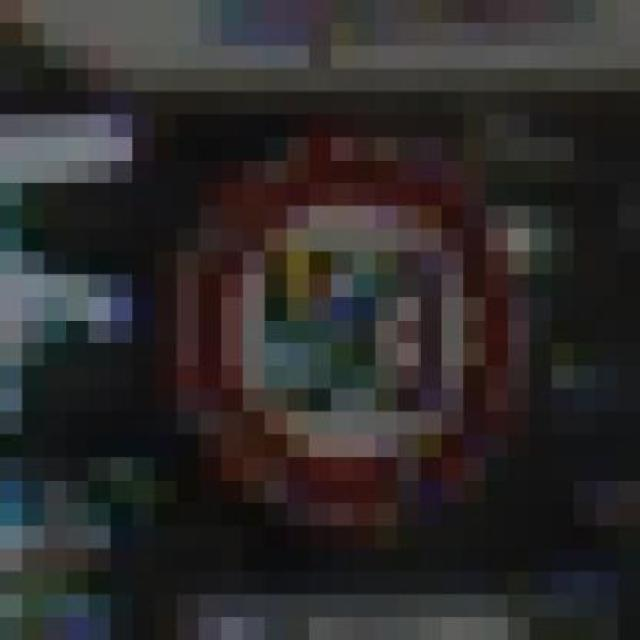forb_speed_over_50: (188, 138, 517, 515)
